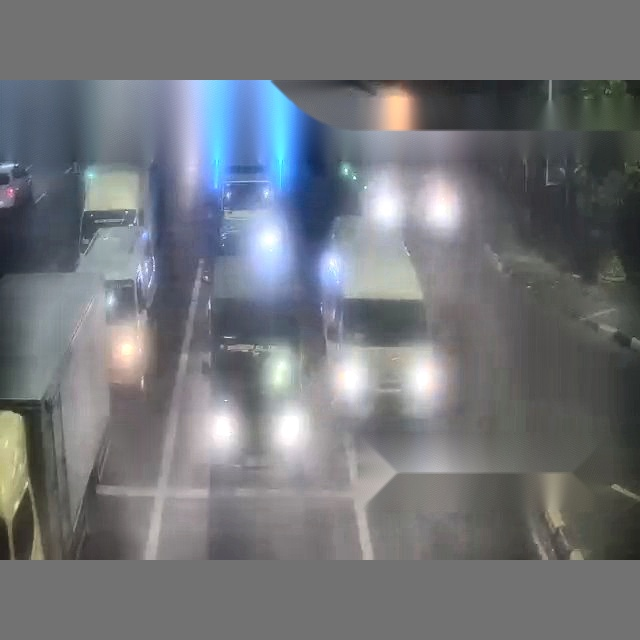Mobil: (0, 162, 32, 207)
Truk: (0, 271, 111, 559)
